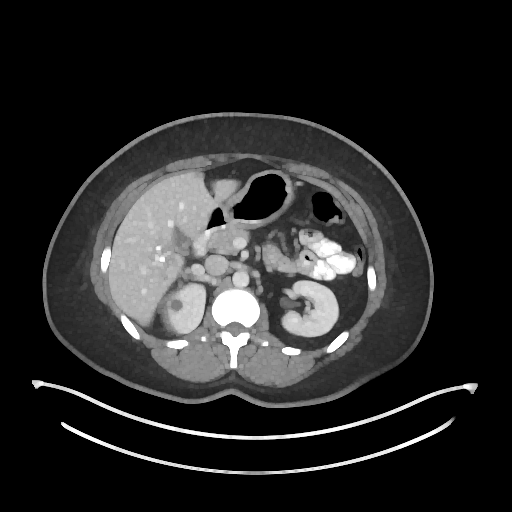Lesion: (168, 297, 184, 312)
